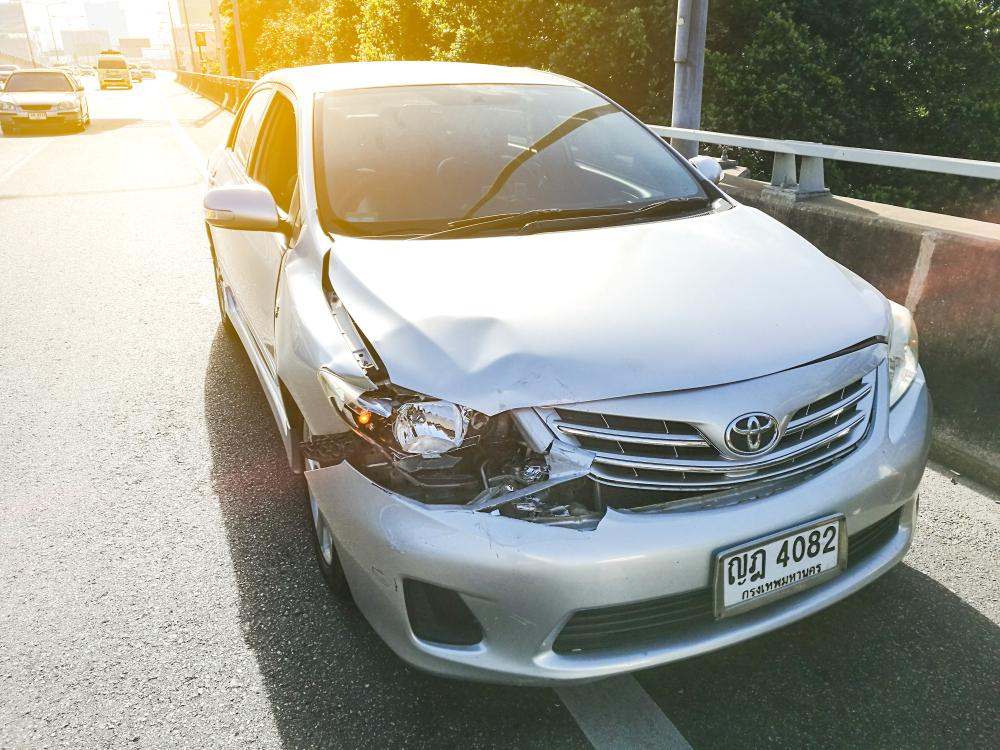crack: (541, 438, 555, 455)
dent: (375, 317, 637, 418), (320, 370, 377, 414)
lamp broken: (351, 381, 542, 489)
